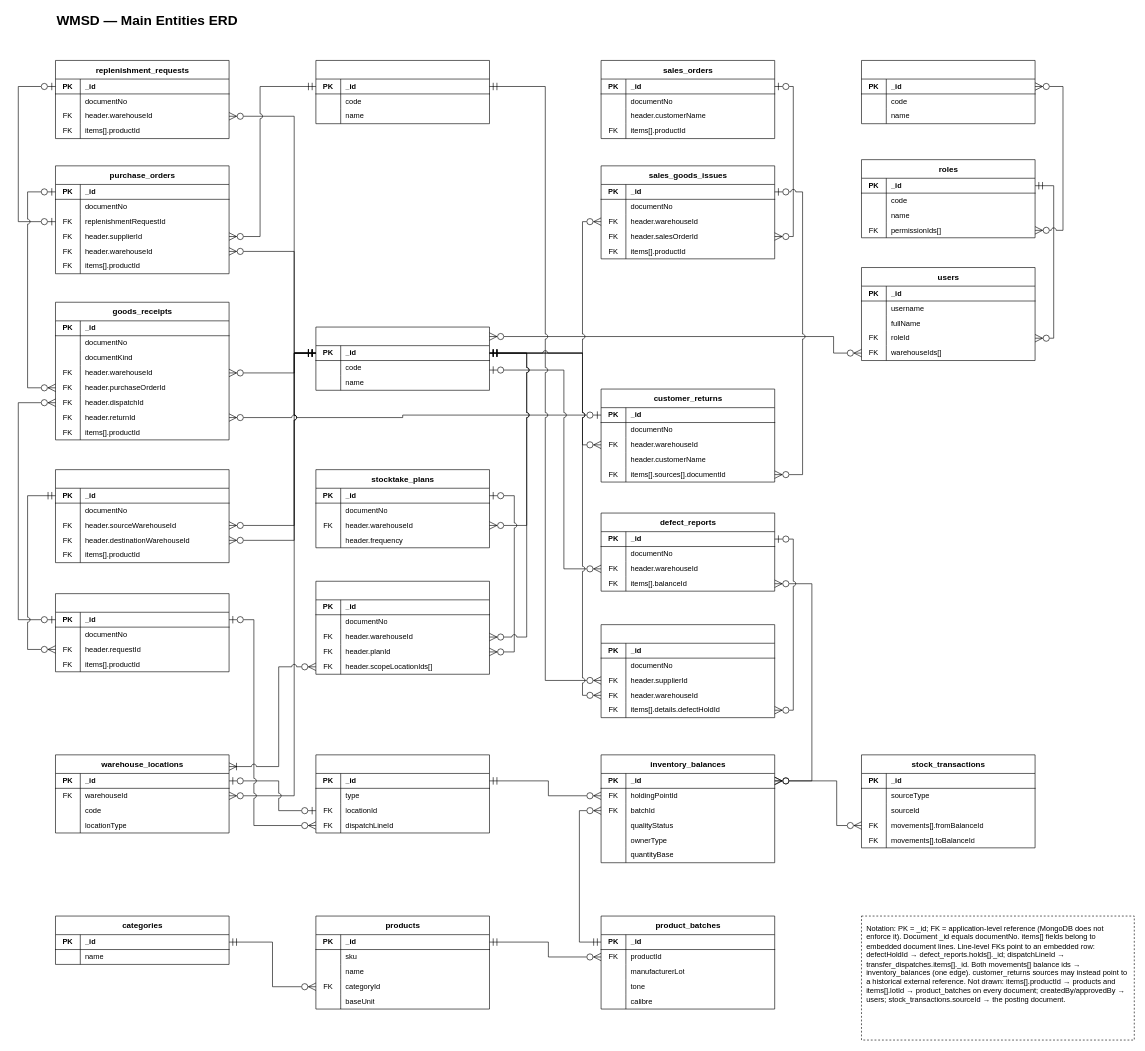
Image size: 1145x1051. Some labels were removed from this diagram. Here are the shapes that lost their labels. From the top down, the box of each, then its label:
(315, 60, 489, 124): suppliers
(861, 60, 1035, 124): permissions
(315, 326, 489, 390): warehouses
(55, 469, 229, 563): warehouse_transfer_requests
(55, 593, 229, 672): transfer_dispatches
(315, 581, 489, 674): stocktakes
(600, 624, 775, 718): supplier_returns
(315, 754, 489, 833): stock_holding_points
